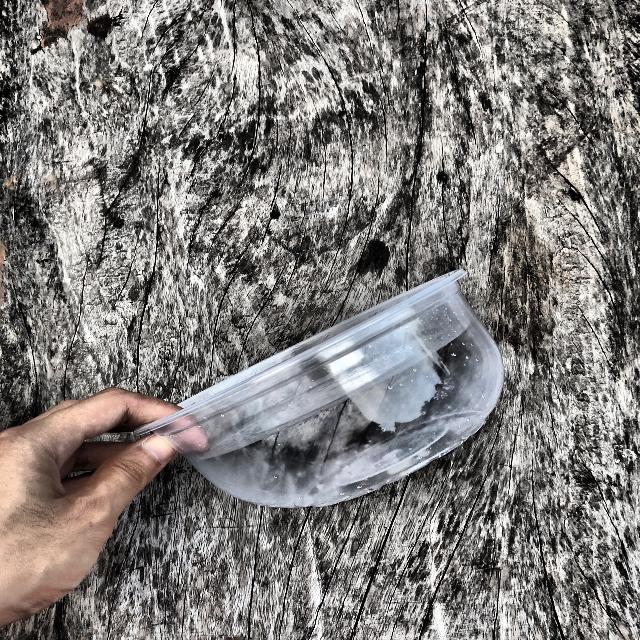plastic container: (103, 253, 538, 530)
